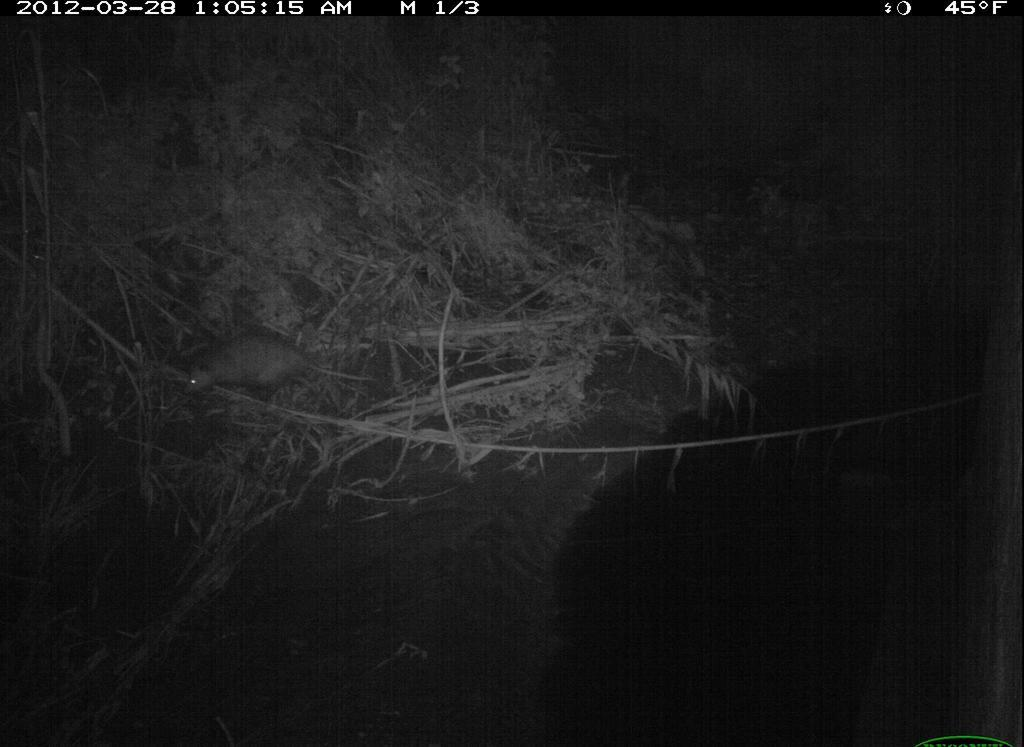opossum: (176, 314, 381, 414)
